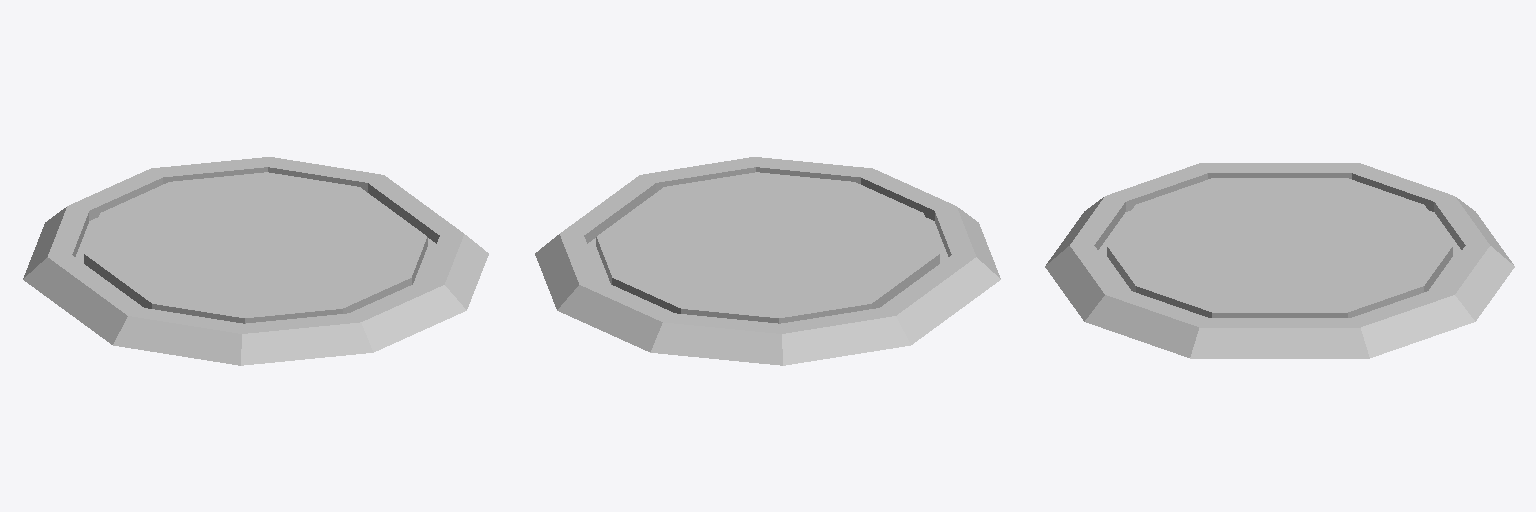
Rendered from EndPlate.obj.
3 renders of one model, left to right at view 1: azimuth 30°, elevation 25°; view 2: azimuth 150°, elevation 25°; view 3: azimuth 270°, elevation 25°, orthographic.
Parts seen in each view (by area): view 1: Cylinder; view 2: Cylinder; view 3: Cylinder.
Part boxes in pixels (x1,y1,x2,y2): Cylinder: (23,157,488,365); Cylinder: (535,157,1000,365); Cylinder: (1045,163,1514,358).
Size of the model in its own units: 3.7 by 0.2 by 4.